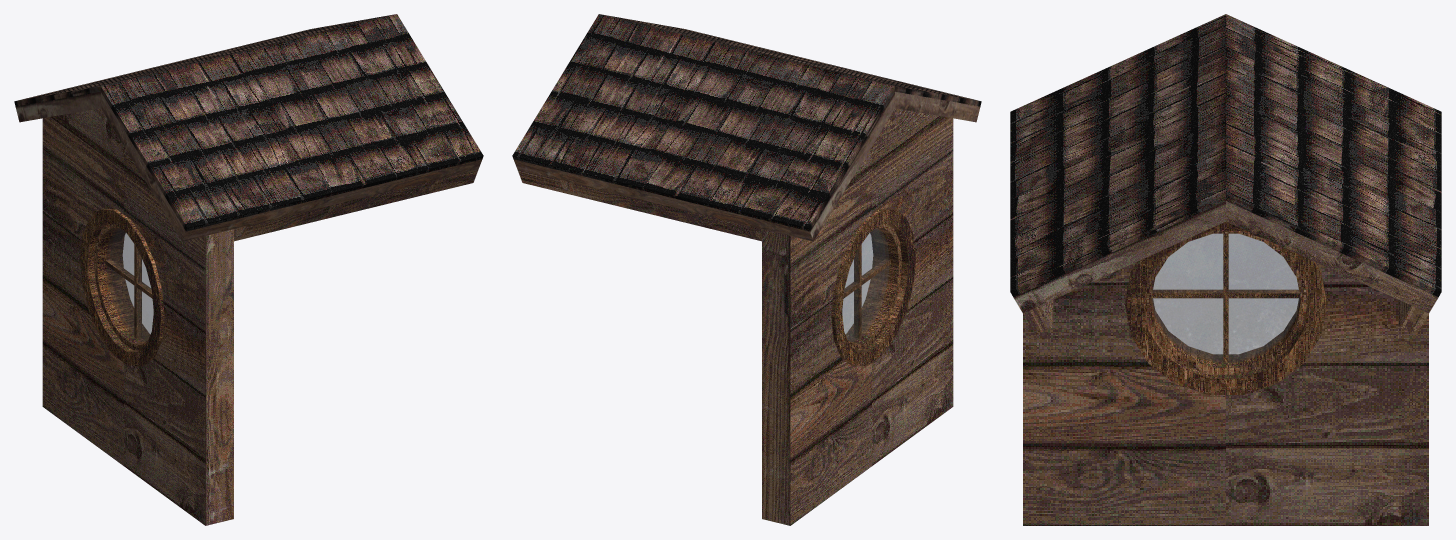
File: roof-top-windowL.glb
The picture shows the model from 3 angles, left to right: view 1: azimuth 30°, elevation 25°; view 2: azimuth 150°, elevation 25°; view 3: azimuth 270°, elevation 25°; orthographic projection. The views are drawn at different scales.
Visible parts, largest first — view 1: roof-top-windowL.001; view 2: roof-top-windowL.001; view 3: roof-top-windowL.001.
Boxes of the visible parts, x1=… form: roof-top-windowL.001: x1=14, y1=14, x2=483, y2=525; roof-top-windowL.001: x1=512, y1=14, x2=981, y2=525; roof-top-windowL.001: x1=1010, y1=14, x2=1441, y2=525.
Bounding box in the file's own units: 2.1 × 2.61 × 2.13.
4 materials, 4 textured.
